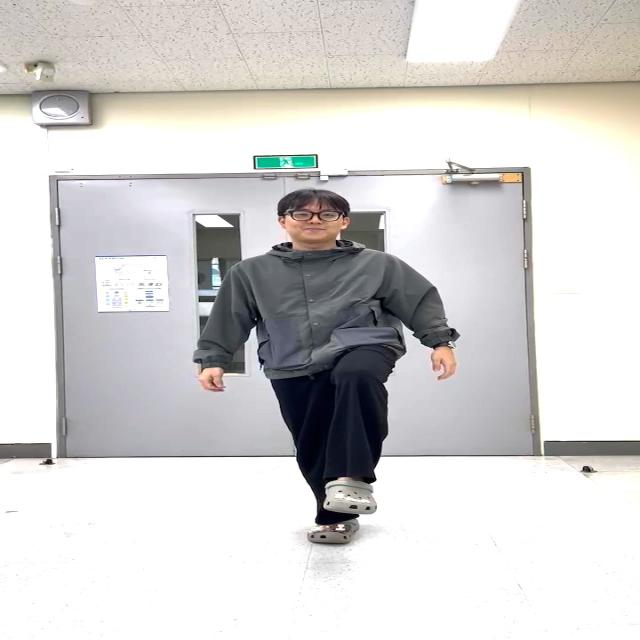leg: (303, 328, 410, 528)
